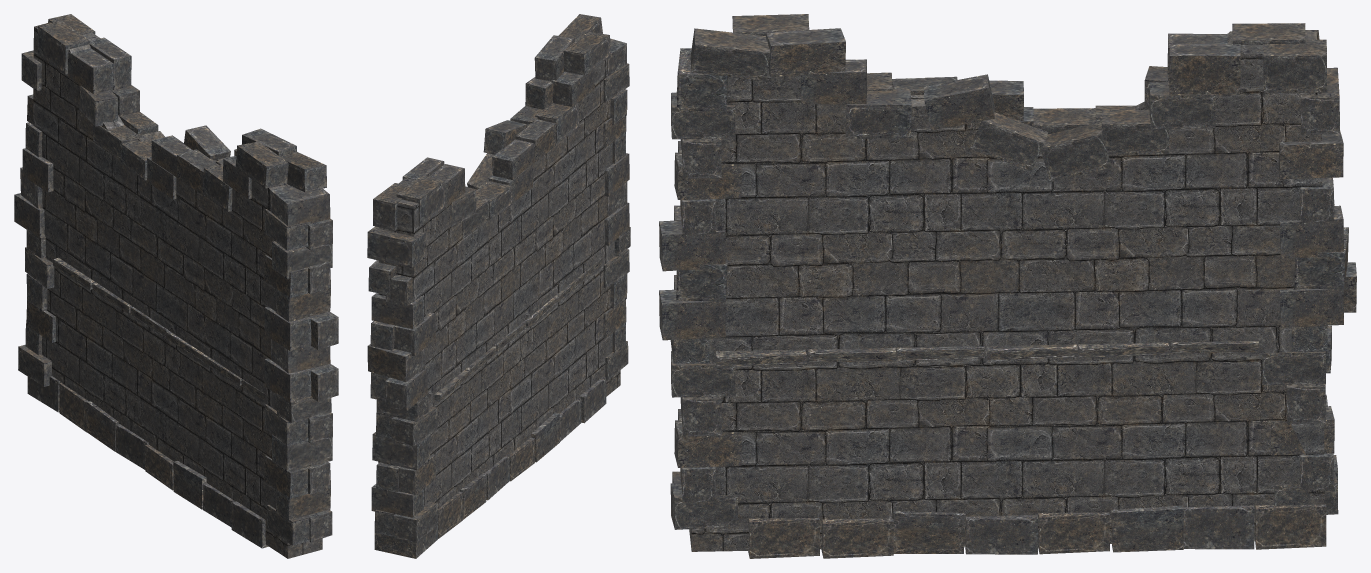
File: Wall_03.fbx
The picture shows the model from 3 angles, left to right: view 1: azimuth 30°, elevation 25°; view 2: azimuth 150°, elevation 25°; view 3: azimuth 270°, elevation 25°; orthographic projection. The views are drawn at different scales.
Visible parts, largest first — view 1: StoneBricks, StoneWall; view 2: StoneWall, StoneBricks; view 3: StoneBricks, StoneWall.
Part boxes in pixels (left/top/right/bottom): StoneBricks: left=33, top=22, right=322, bottom=558; StoneWall: left=14, top=14, right=338, bottom=548; StoneWall: left=367, top=14, right=630, bottom=558; StoneBricks: left=378, top=59, right=620, bottom=508; StoneBricks: left=689, top=30, right=1324, bottom=551; StoneWall: left=659, top=14, right=1356, bottom=558.
Size of what is drawn, in the model's own units: 67.31 by 345 by 421.
